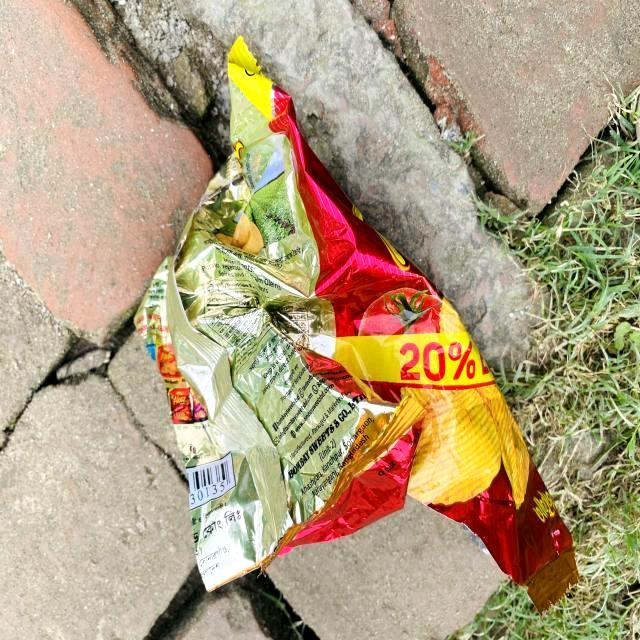packet: (135, 48, 593, 608)
